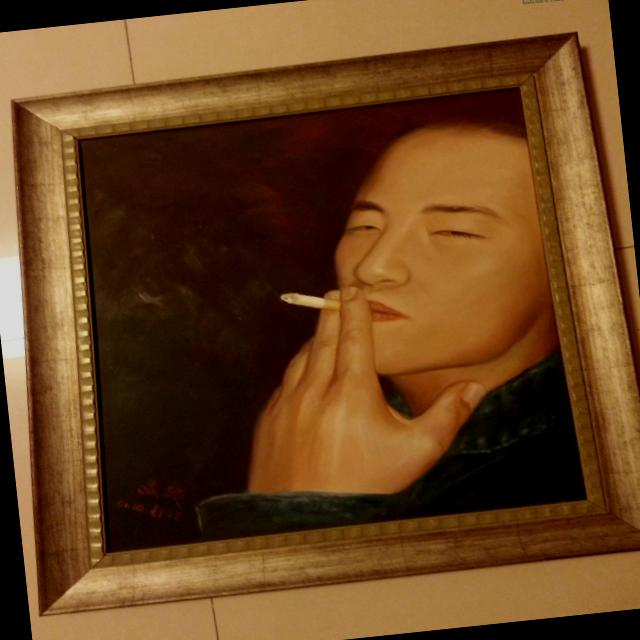smoke: (273, 278, 334, 316)
